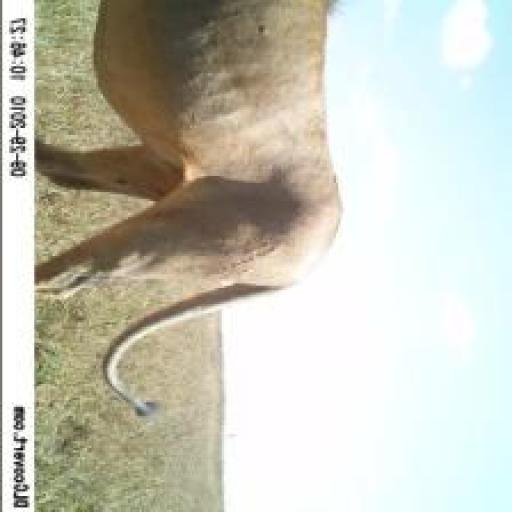lion: (34, 2, 360, 433)
